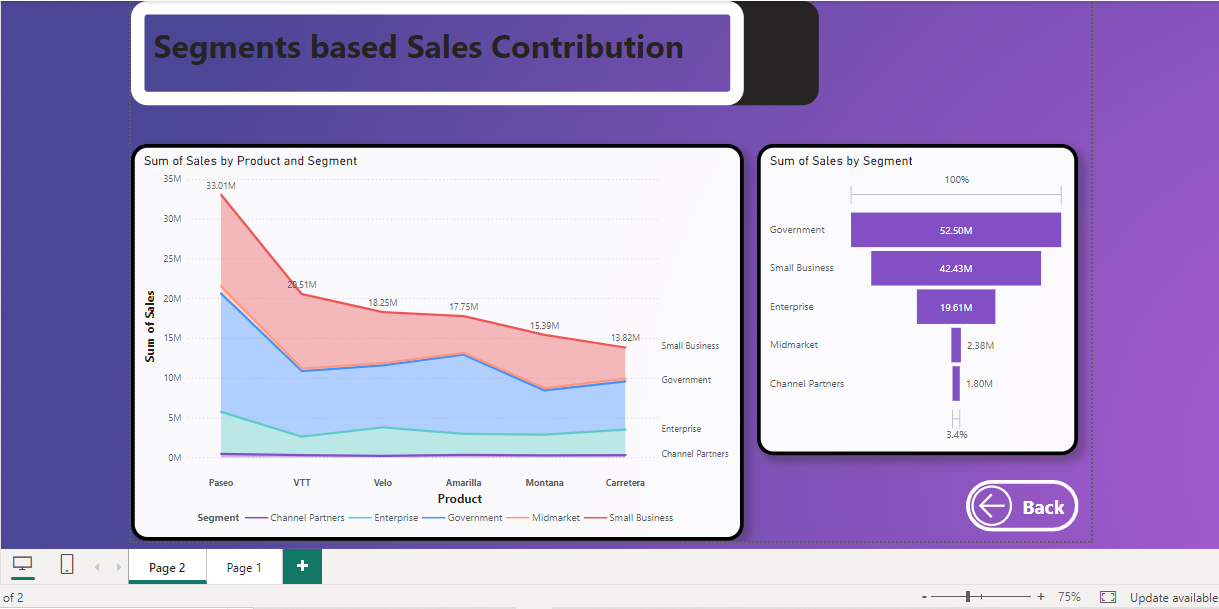

Layout of this report page (visuals, bound fields, positions):
{"tool":"powerbi","page":{"name":"Page 2","canvas":[1280,720],"ordinal":0},"visuals":[{"type":"textbox","box":[0,0,816.6,138.7],"z":1},{"type":"stackedAreaChart","fields":{"Category":["financials.Product"],"Series":["financials.Segment"],"Y":["Sum(financials. Sales)"]},"box":[0,190.2,816.6,529.2],"z":2},{"type":"funnel","fields":{"Category":["financials.Segment"],"Y":["Sum(financials. Sales)"]},"box":[835.2,190.2,427.6,414.7],"z":3},{"type":"actionButton","box":[1112.7,639.3,150.2,68.6],"z":4}]}

Visuals, with their boxes on the page's 1280x720 design canvas (x1, y1, x2, y2). These are canvas units, not pixel positions in the 1219x609 screenshot, which may show the page scaled, cropped or inside an application window:
textbox: 0 0 817 139
stackedAreaChart - financials.Product x financials.Segment: 0 190 817 719
funnel - financials.Segment x Sum(financials. Sales): 835 190 1263 605
actionButton: 1113 639 1263 708
